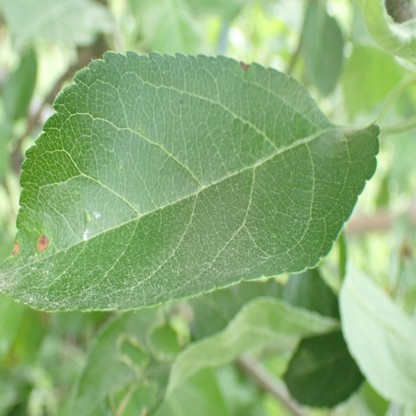frogeye_leaf_spot: (38, 235, 47, 253), (240, 61, 251, 72), (11, 242, 19, 255)
powdery_mildew: (0, 265, 101, 308)
